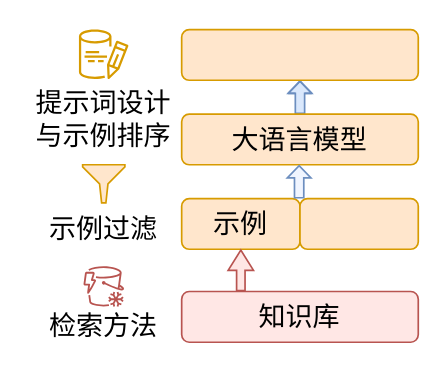
This 448x372 diagram has some shape labels left out. Each missing label, with the box of its shape:
原问题: (298, 197, 418, 249)
输出: (180, 28, 418, 80)
